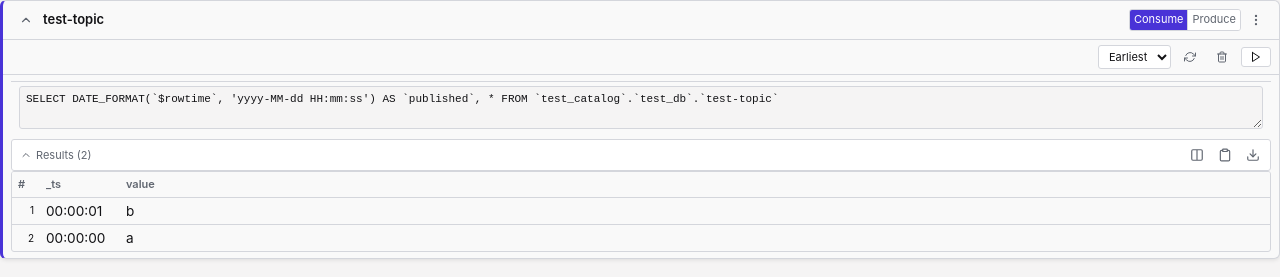
Test: [@stream-card-layout] StreamCard Layout › Results bar › export button opens export dropdown with CSV, JSON, Markdown
The width and height of the screenshot is (1280, 277).
Click the button named "Export data": (1253, 155) [1240,142,1266,168]
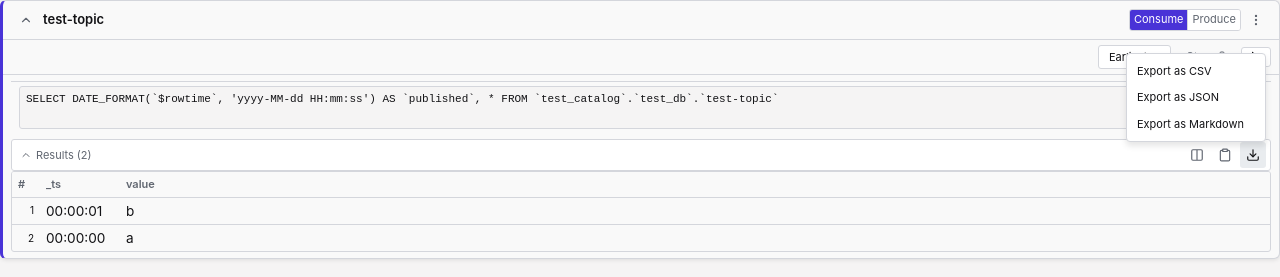
Now the button "Export as CSV" is shown, box [1127,58,1265,84]
Now the button "Export as JSON" is shown, box [1127,84,1265,110]
Now the button "Export as Markdown" is shown, box [1127,110,1265,137]
